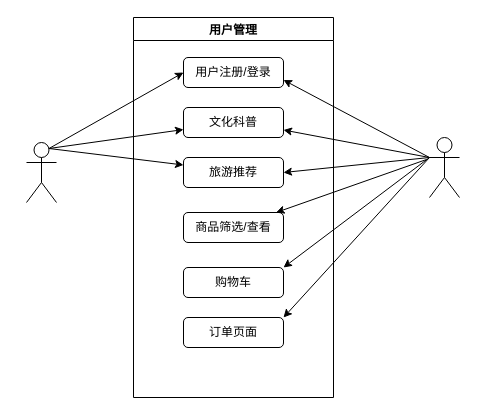
Some shapes in this 485 by 415 pixel diagram are drawn without their labels. Each missing label, with the centre of its shape:
"普通用户" belongs at point 41,172.
"登录用户" belongs at point 444,167.
